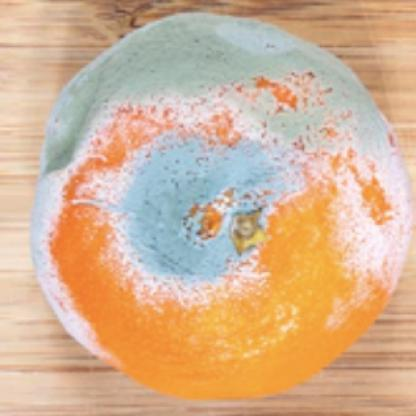rotten: (32, 14, 414, 398)
